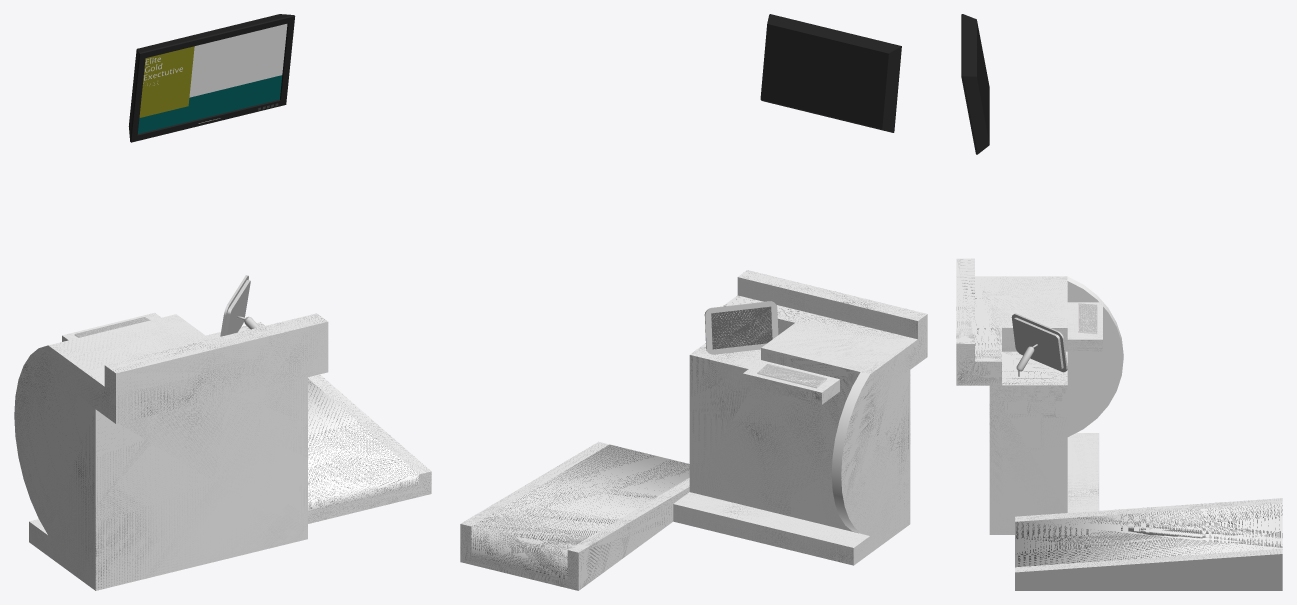
The model's file is Check-InDesk.dae.
The picture shows the model from 3 angles, left to right: view 1: azimuth 30°, elevation 25°; view 2: azimuth 150°, elevation 25°; view 3: azimuth 270°, elevation 25°; orthographic projection. The views are drawn at different scales.
Visible parts, largest first — view 1: check_in_counter_2 (×3), TV_FlatScreen_42in_2 (×4), Computer_Desktop_iMac_DomeBase; view 2: check_in_counter_2 (×4), TV_FlatScreen_42in_2 (×2), Computer_Desktop_iMac_DomeBase (×2), Keyboard; view 3: check_in_counter_2 (×4), TV_FlatScreen_42in_2 (×2), Computer_Desktop_iMac_DomeBase (×2), Keyboard.
Part boxes in pixels (x1,y1,x2,y2): check_in_counter_2 (×3): [14, 312, 431, 590]; TV_FlatScreen_42in_2 (×4): [128, 14, 295, 142]; Computer_Desktop_iMac_DomeBase: [223, 280, 250, 335]; check_in_counter_2 (×4): [460, 270, 927, 590]; TV_FlatScreen_42in_2 (×2): [760, 14, 901, 132]; Computer_Desktop_iMac_DomeBase (×2): [707, 303, 776, 352]; Keyboard: [758, 364, 825, 386]; check_in_counter_2 (×4): [956, 258, 1282, 590]; TV_FlatScreen_42in_2 (×2): [961, 14, 989, 154]; Computer_Desktop_iMac_DomeBase (×2): [1011, 313, 1067, 372]; Keyboard: [1078, 303, 1097, 332].
Bounding box in the file's own units: 89.81 × 87.82 × 133.
